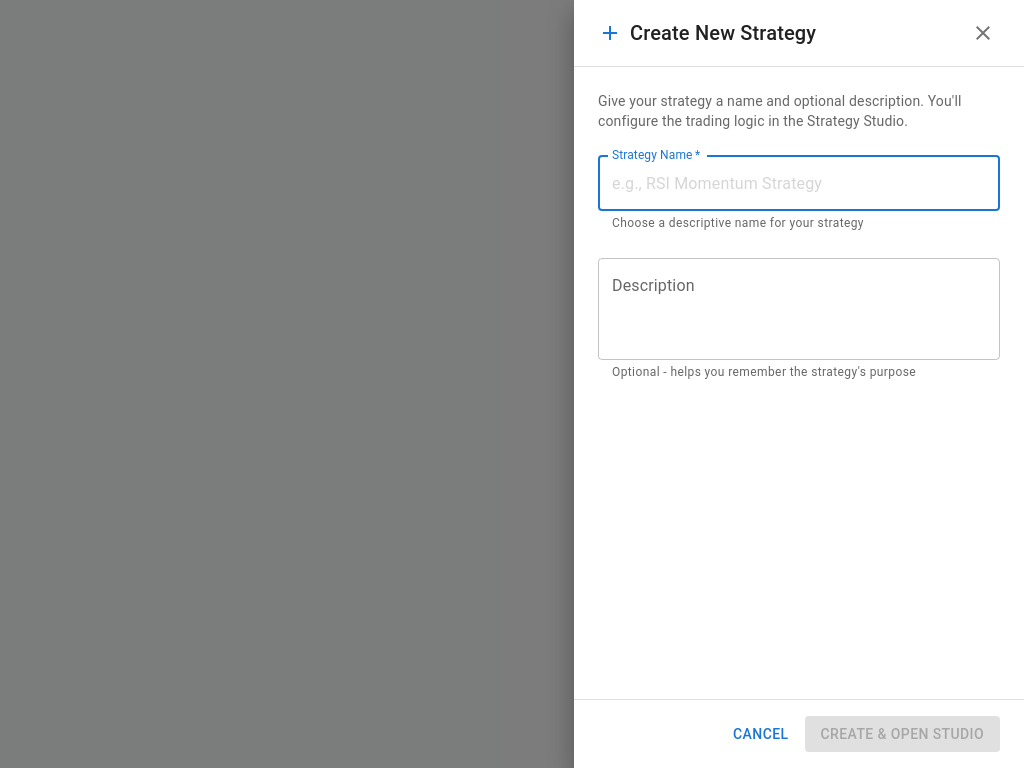
Test: CreateStrategyNameDrawer › shows error when no active organization
This screenshot has width=1024, height=768.
Type "Test Strategy" into the field labelled "Strategy Name *" at (799, 183), box x1=598 y1=155 x2=1000 y2=211
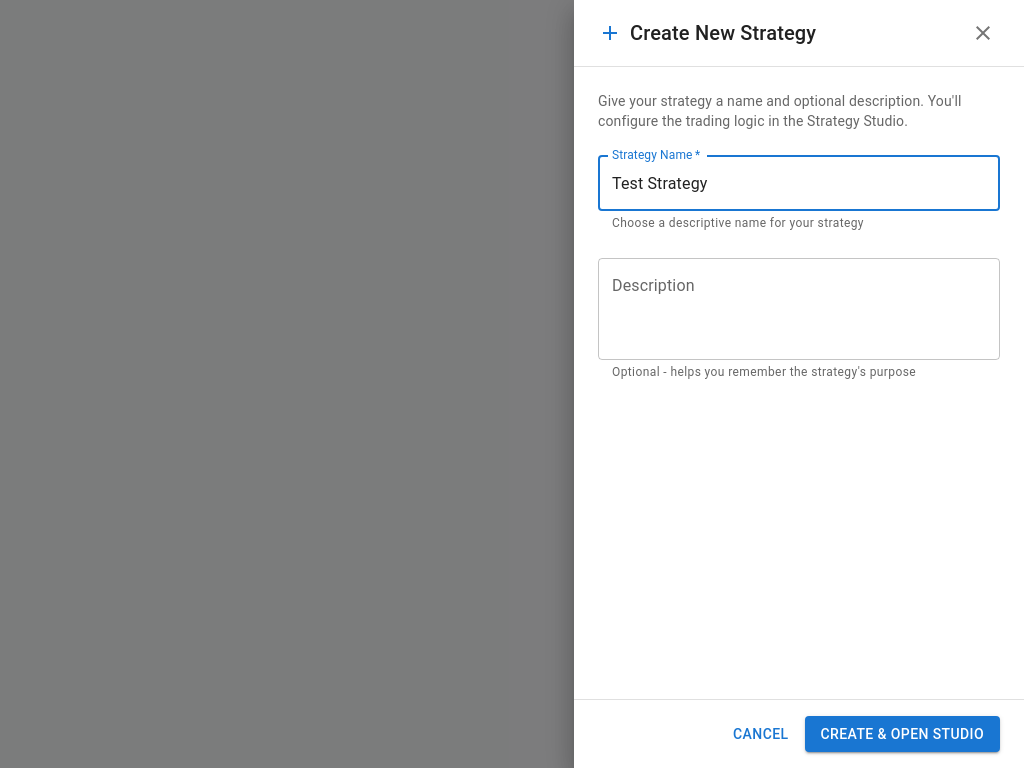
Click the button "Create & Open Studio" at (902, 734), box x1=804 y1=716 x2=1000 y2=752
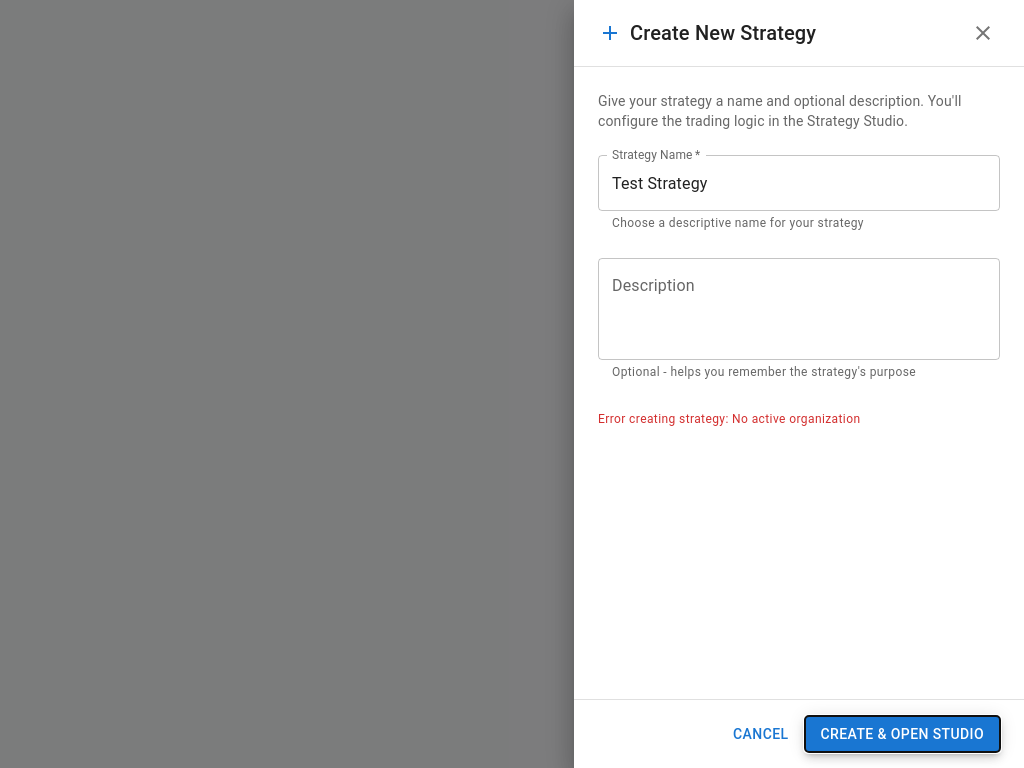
Check: the text "Error creating strategy: No active organization" is shown, box x1=598 y1=412 x2=860 y2=426
